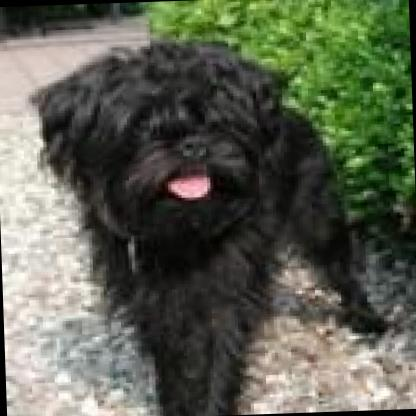affenpinscher: (17, 27, 397, 416)
